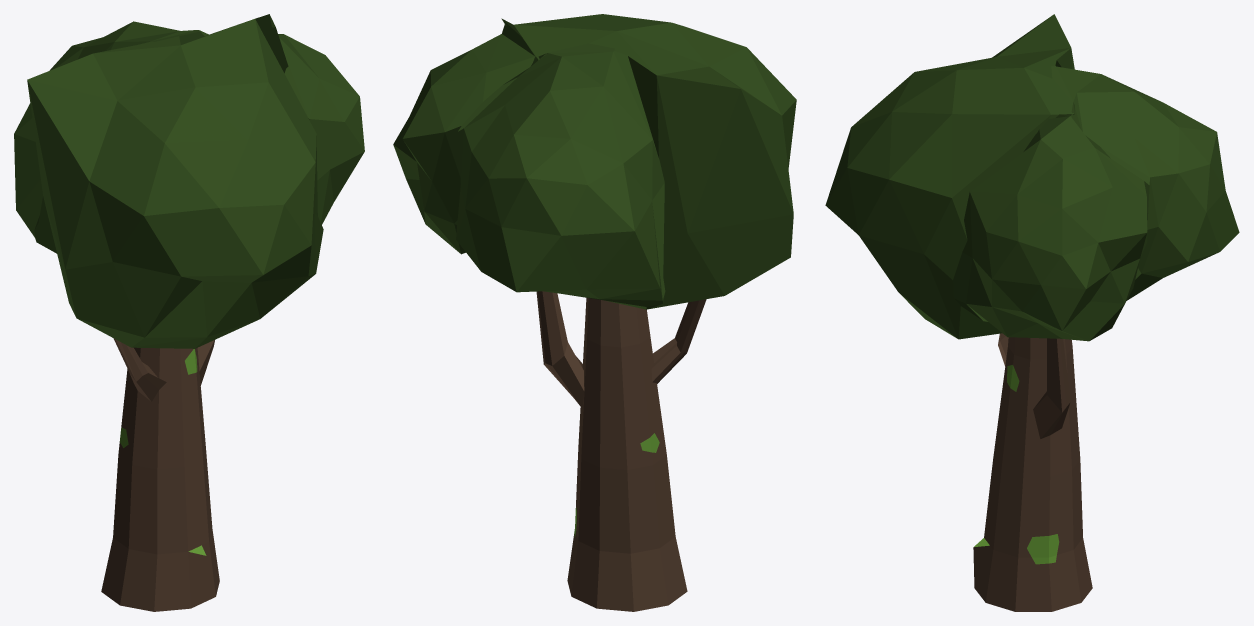
Rendered from tree.fbx.
The picture shows the model from 3 angles, left to right: view 1: azimuth 30°, elevation 25°; view 2: azimuth 150°, elevation 25°; view 3: azimuth 270°, elevation 25°; orthographic projection. The views are drawn at different scales.
Visible parts, largest first — view 1: Tree; view 2: Tree; view 3: Tree.
Part boxes in pixels (bbox=[...]): Tree: bbox=[14, 14, 364, 611]; Tree: bbox=[393, 14, 796, 611]; Tree: bbox=[825, 14, 1239, 611].
Bounding box in the file's own units: 1250 × 1933 × 1375.
